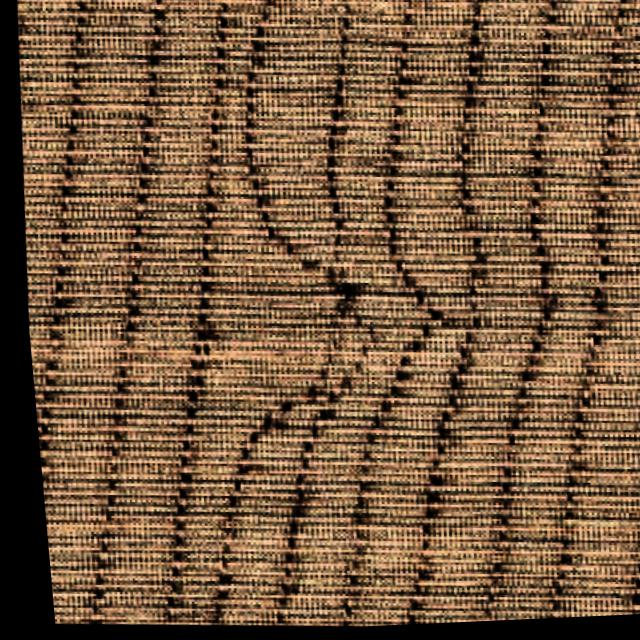Stitch: (209, 159, 383, 489)
